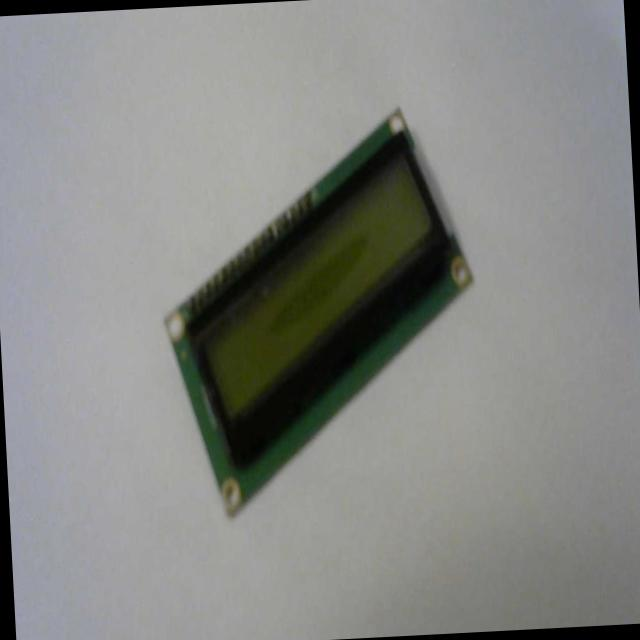lcd: (152, 100, 486, 520)
